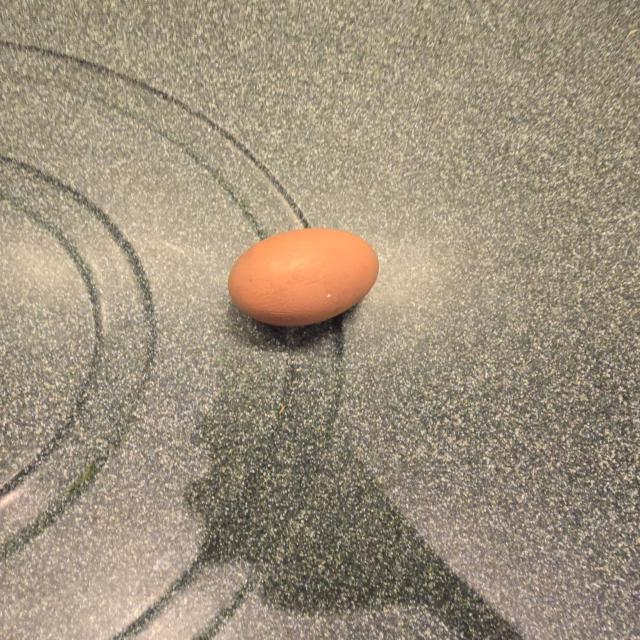Egg: (228, 228, 379, 326)
